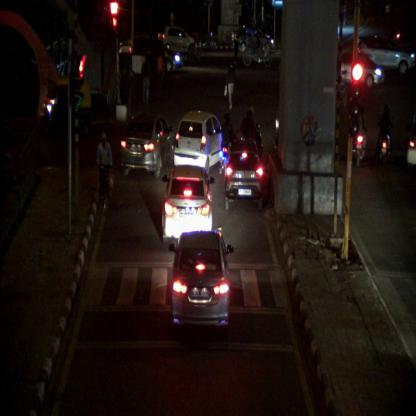car: (170, 230, 235, 334), (160, 167, 214, 240), (121, 113, 172, 182), (174, 112, 226, 175), (224, 142, 261, 212), (358, 37, 414, 73), (340, 48, 384, 88), (158, 27, 196, 53)
motorcycle: (378, 106, 392, 169), (353, 104, 365, 166)
